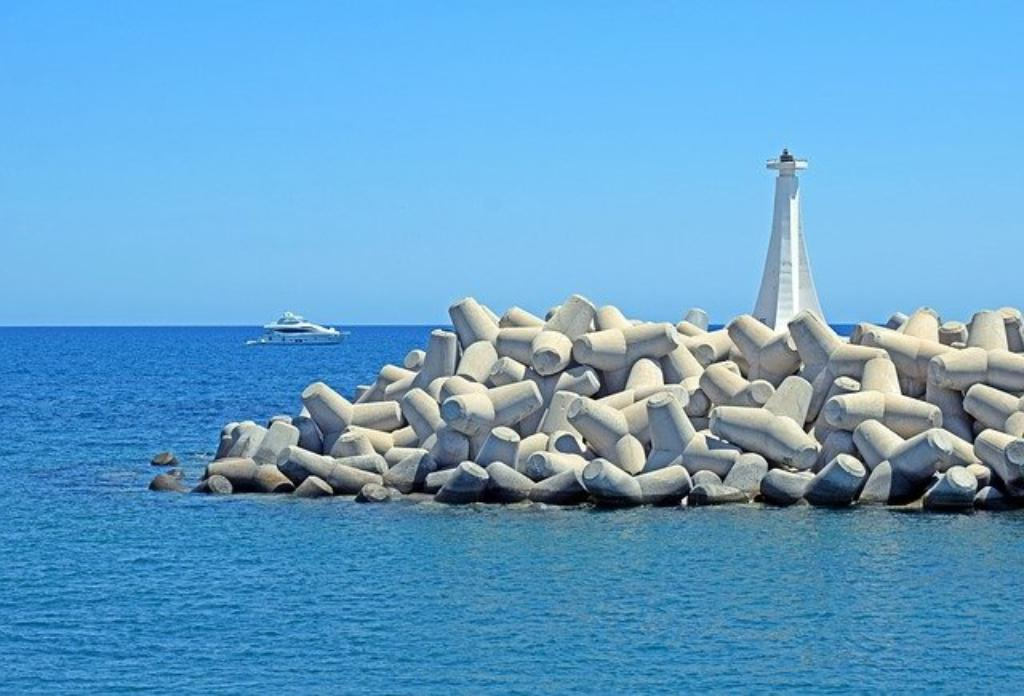PassengerShip: (252, 304, 360, 348)
